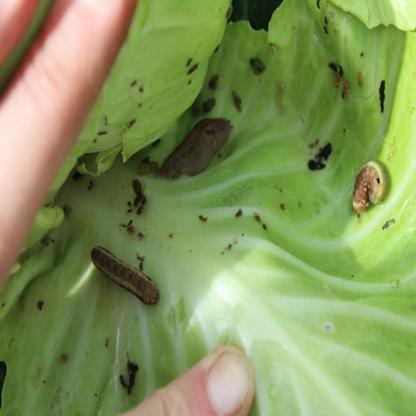armyworm: (86, 239, 165, 312), (352, 162, 386, 214)
